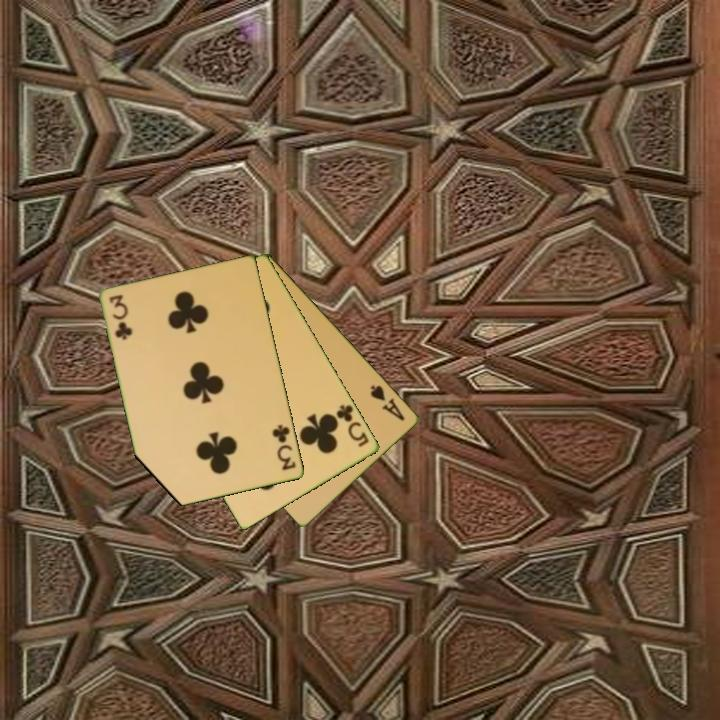3c: (269, 421, 299, 473), (106, 291, 134, 343)
5c: (333, 401, 372, 450)
As: (367, 381, 408, 424)
